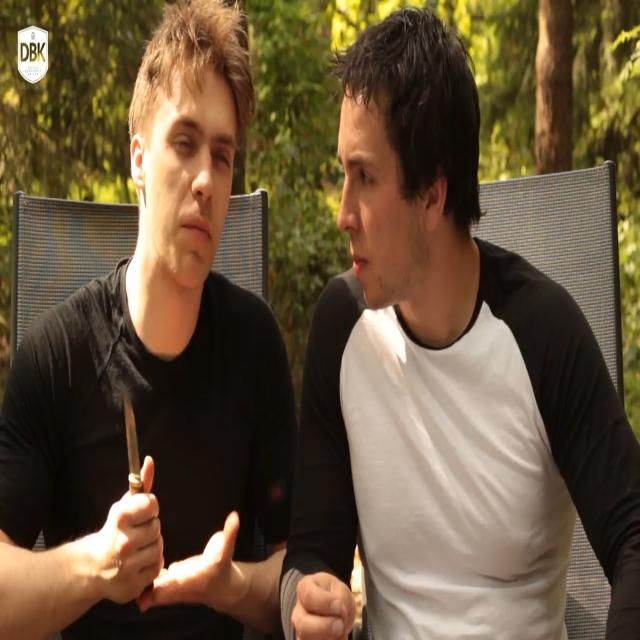knife: (123, 384, 146, 494)
